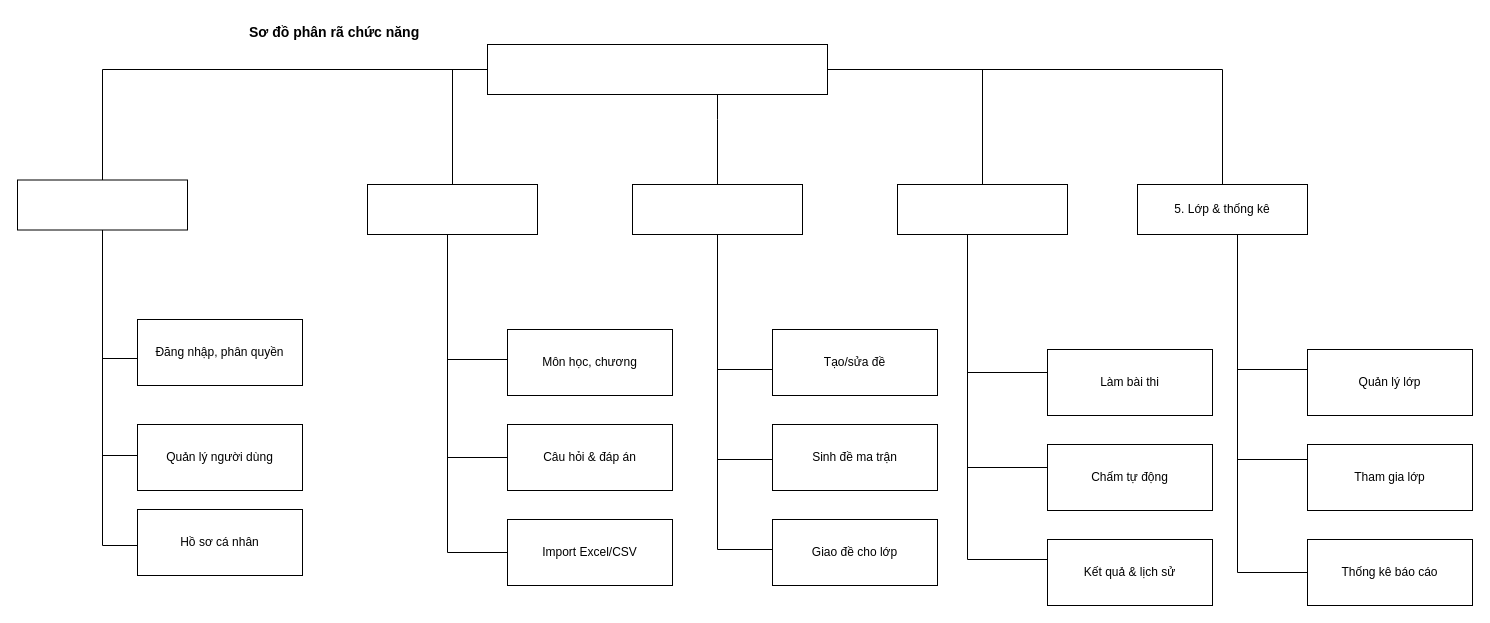
Image size: 1490x623. Some labels were removed from this diagram. The centre of each missing label's shape, as x and y in pixels:
"1. Quản trị hệ thống" belongs at (102,204).
"2. Ngân hàng câu hỏi" belongs at (452,209).
"3. Quản lý đề thi" belongs at (717,209).
"4. Tổ chức thi" belongs at (982,209).
"HỆ THỐNG QUẢN LÝ NGÂN HÀNG ĐỀ" belongs at (657,69).
